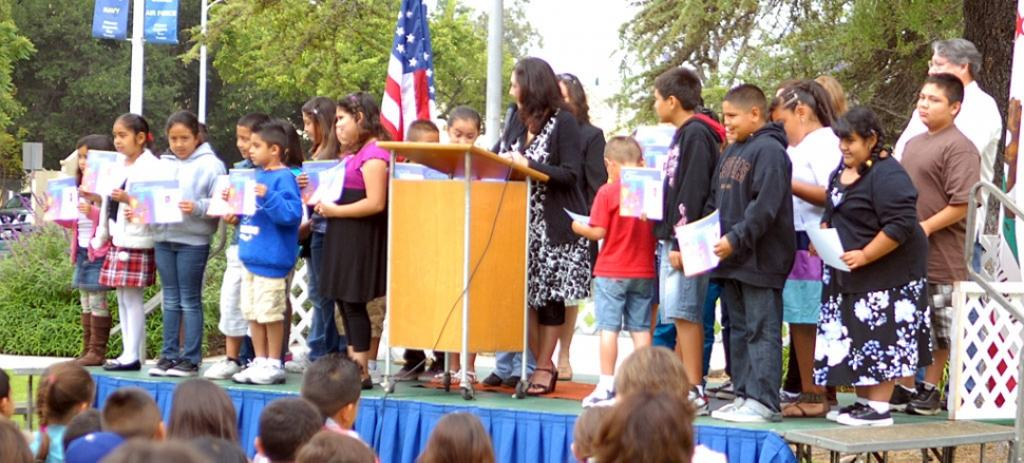face: (918, 82, 950, 123), (928, 47, 961, 85), (723, 99, 750, 141), (839, 128, 868, 164), (771, 103, 795, 146), (449, 118, 478, 153), (168, 123, 195, 159), (112, 120, 136, 155), (248, 133, 270, 166), (334, 117, 357, 146), (418, 128, 438, 161), (235, 123, 253, 159), (77, 144, 96, 175), (653, 88, 670, 121), (552, 79, 569, 111), (302, 110, 317, 141), (507, 70, 519, 108), (338, 403, 356, 427)
